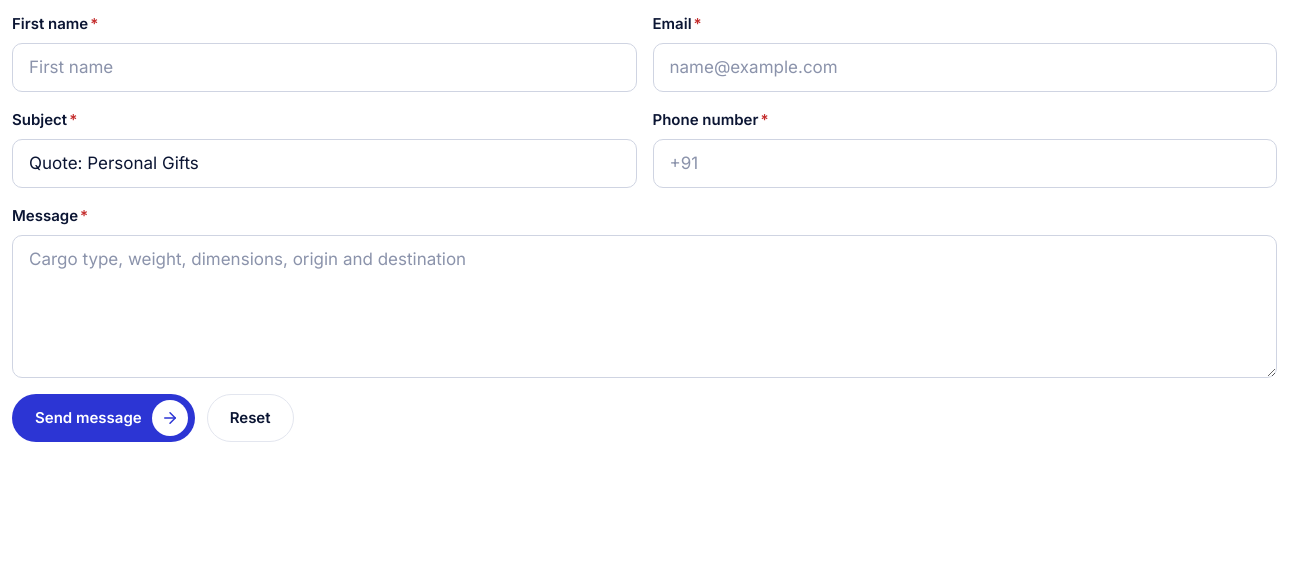
Test case: <ContactForm> › prefills the subject and tells the visitor honestly when delivery isn't configured
Expected: the field labelled "Subject*" holds "Quote: Personal Gifts", [12,139,636,188]
Type "Asha" into the field labelled "First name*" at (324, 68), box [12,43,636,92]
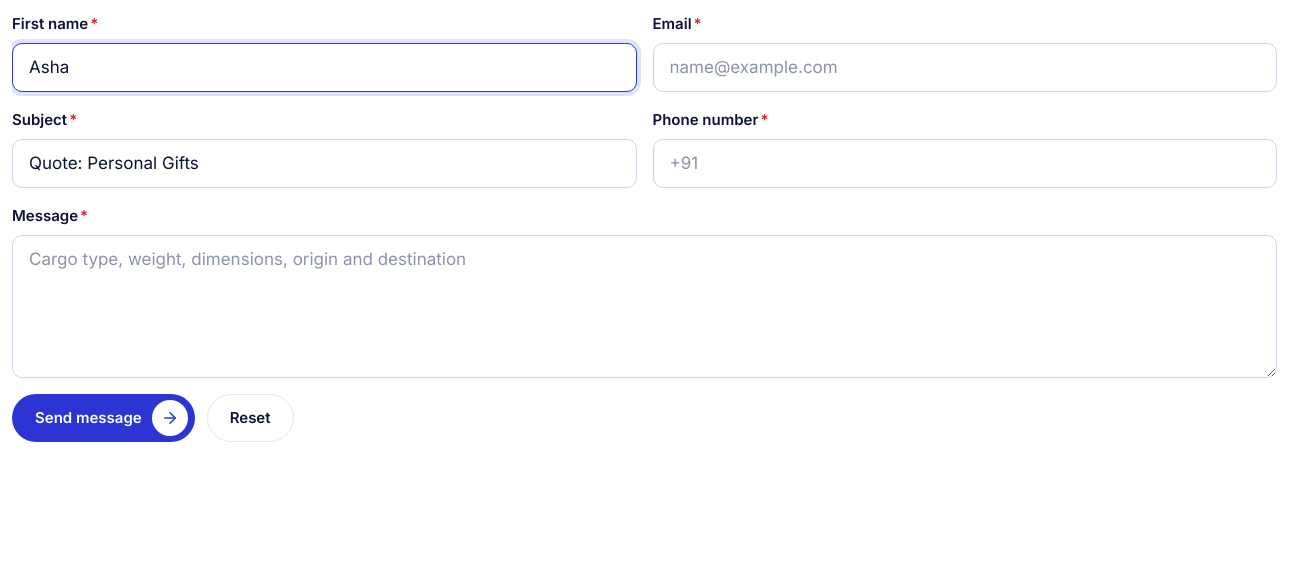
Type "asha@example.com" into the field labelled "Email*" at (965, 68), box [652,43,1277,92]
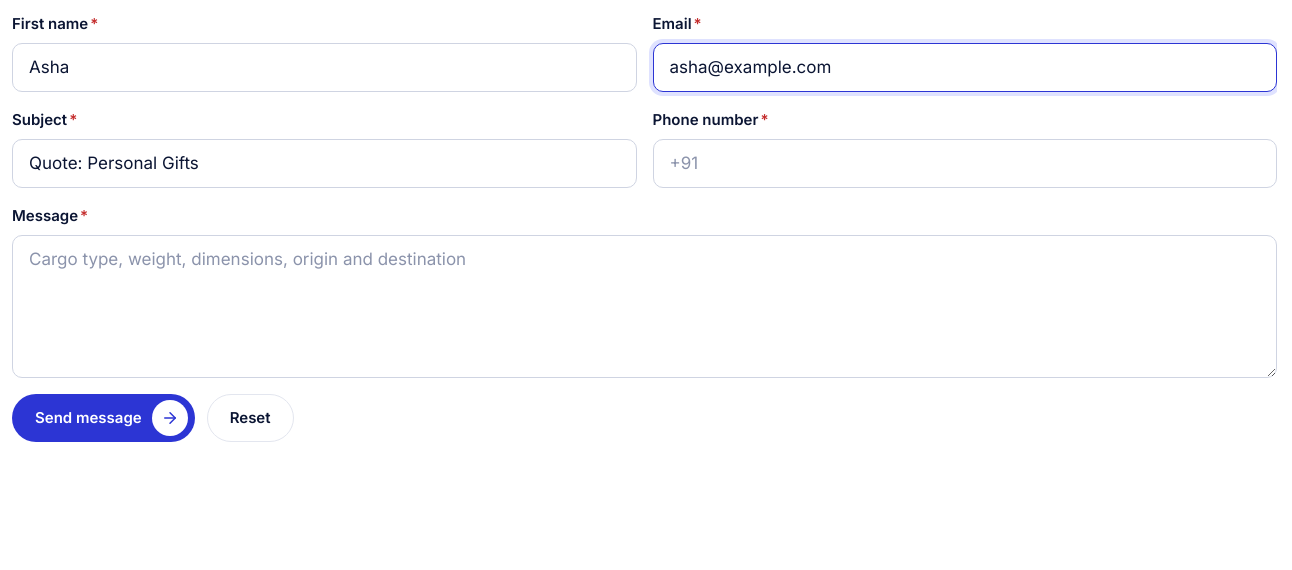
Type "+91 6238399011" into the field labelled "Phone number*" at (965, 164), box [652,139,1277,188]
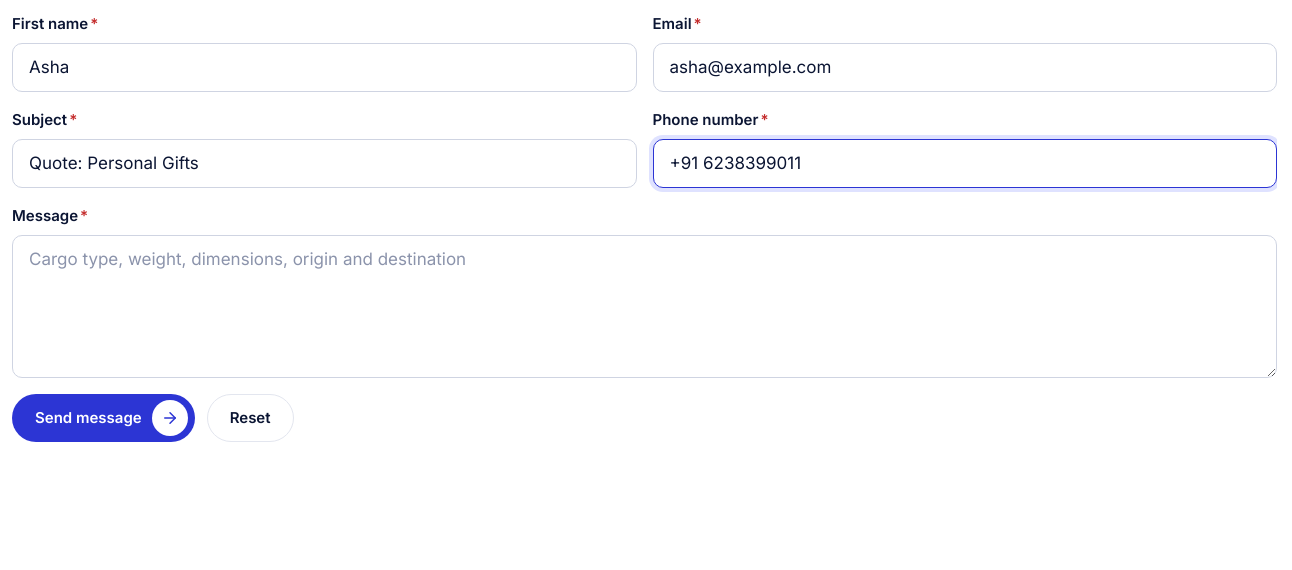
Type "Two boxes to London" into the text box labelled "Message*" at (644, 306), box [12,235,1277,378]
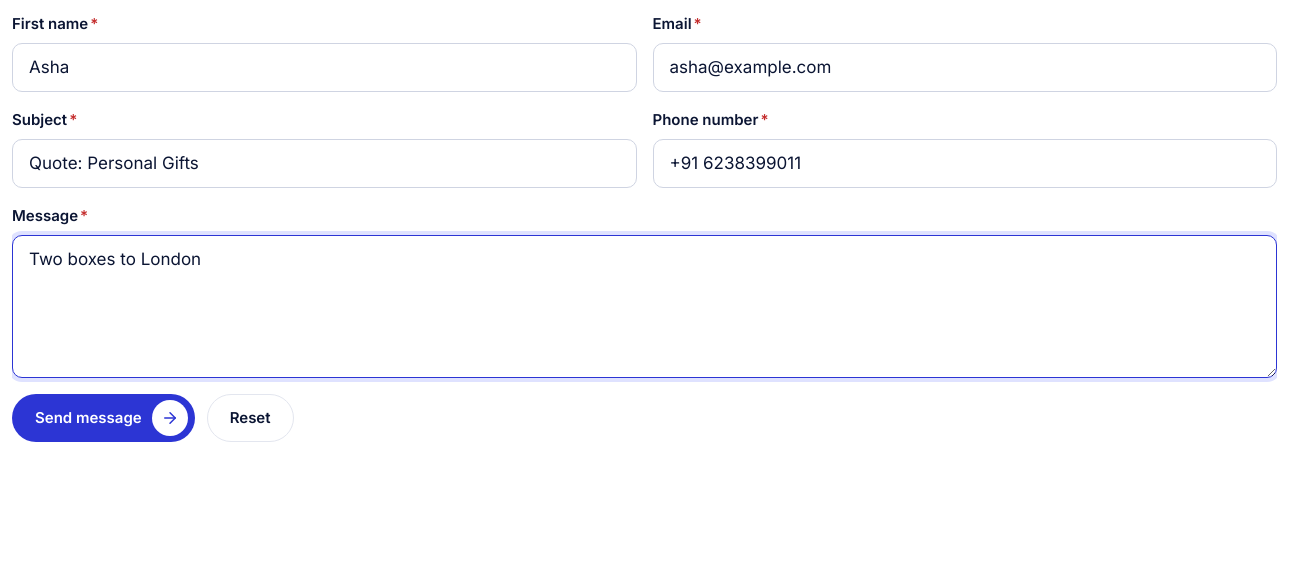
Click the button "Send message" at (103, 418), box [12,394,195,442]
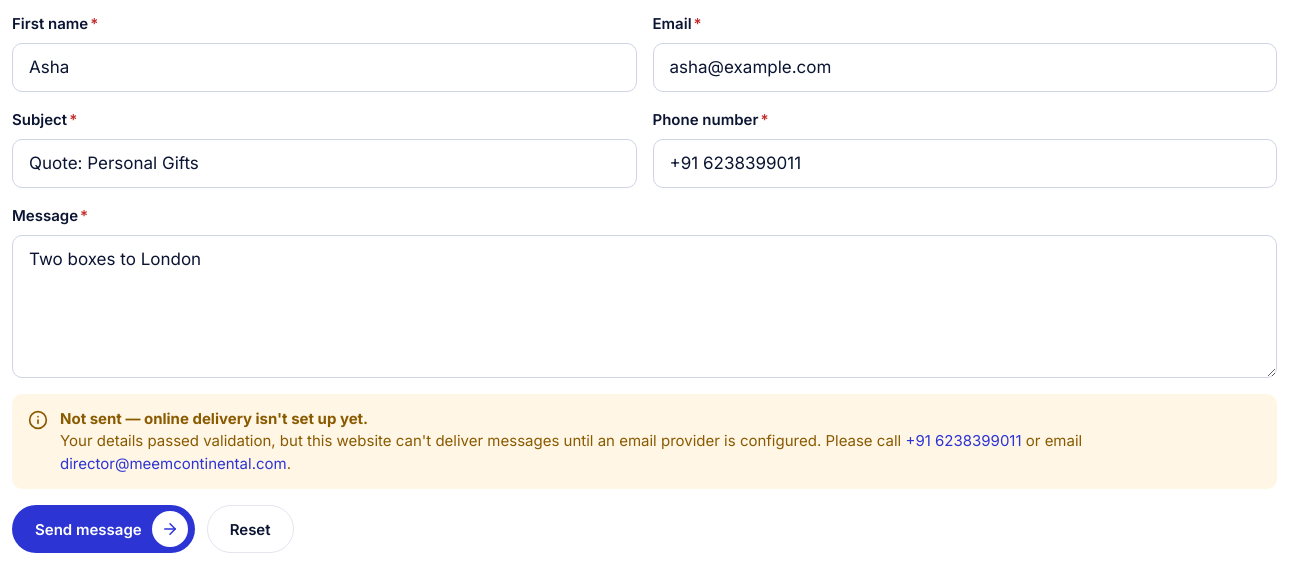
Expected: the text "Not sent — online delivery isn't set up yet." is shown, [60,409,368,428]
